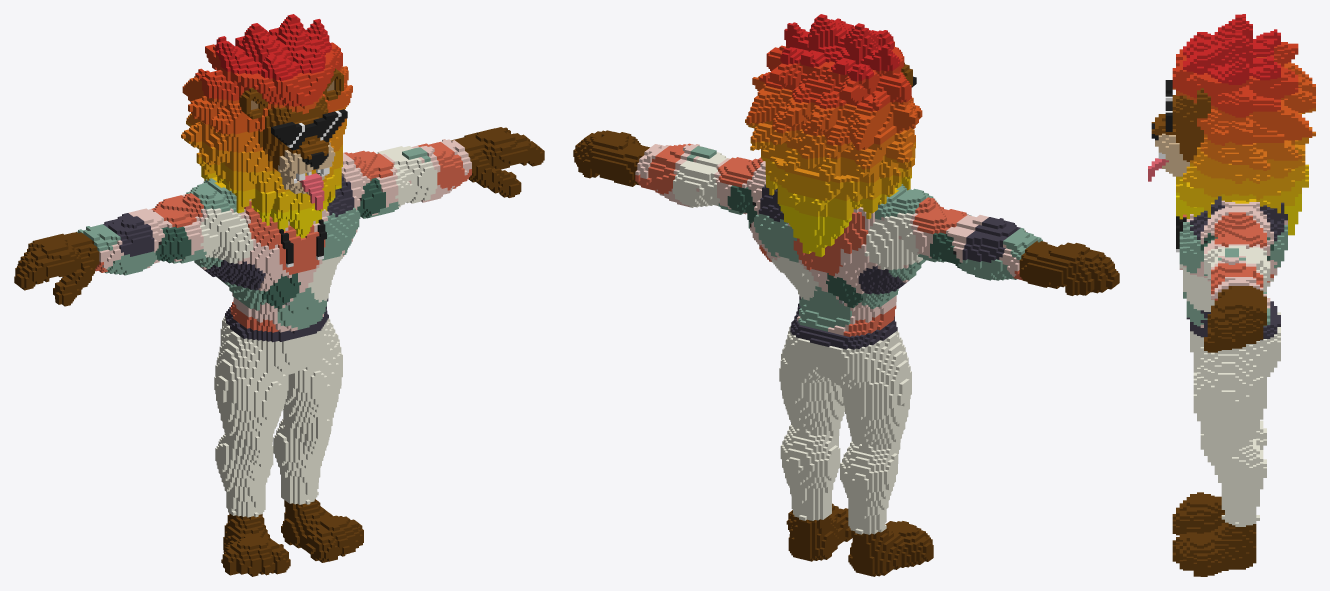
3 renders of one model, left to right at view 1: azimuth 30°, elevation 25°; view 2: azimuth 150°, elevation 25°; view 3: azimuth 270°, elevation 25°, orthographic. The views are drawn at different scales.
Parts seen in each view (by area): view 1: tongue_out; view 2: tongue_out; view 3: tongue_out.
Part boxes in pixels (x1,y1,x2,y2): tongue_out: (14, 14, 544, 576); tongue_out: (573, 14, 1119, 576); tongue_out: (1148, 14, 1315, 576).
Size of the model in its own units: 17.2 by 16.5 by 4.8.
5 materials, 5 textured.
